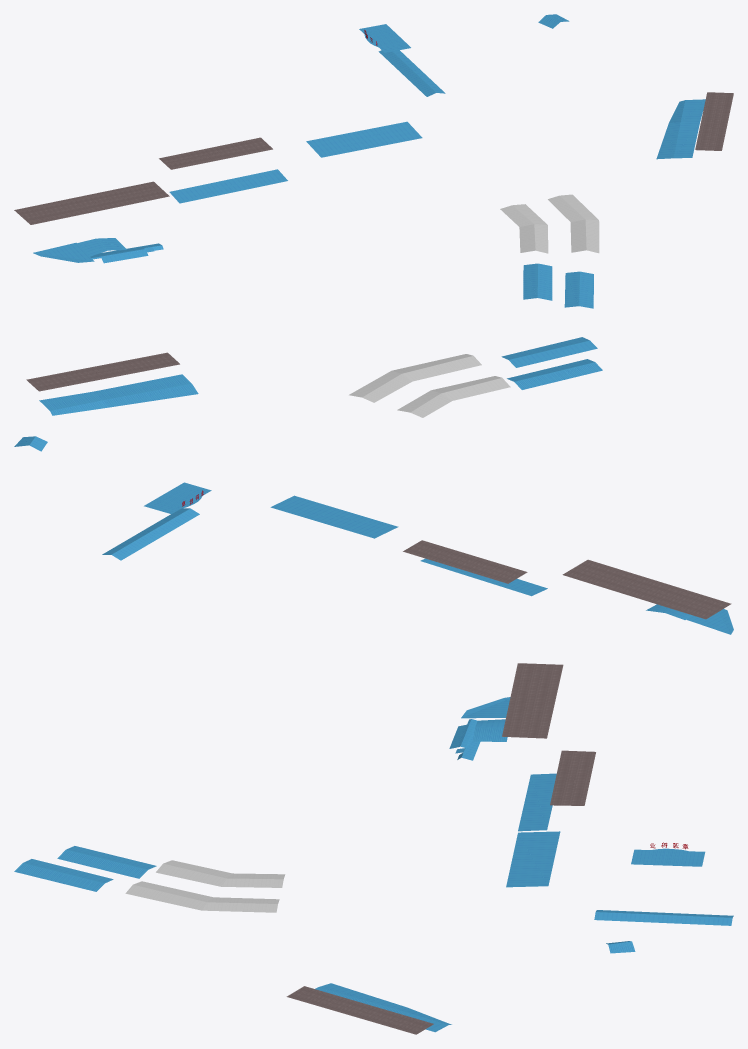
The model's file is waichangjingwuding.glb.
3 views of the same model, one above another, from view 1: azimuth 30°, elevation 25°; view 2: azimuth 150°, elevation 25°; view 3: azimuth 270°, elevation 25° (orthographic). The views are drawn at different scales.
Visible parts, largest first — view 1: Box002; view 2: Box002; view 3: Box002.
Boxes of the visible parts, left/top/right/bottom form: Box002: left=14, top=14, right=733, bottom=308; Box002: left=14, top=337, right=733, bottom=634; Box002: left=14, top=663, right=733, bottom=1034.
Bounding box in the file's own units: 120 × 12.9 × 97.
Materials: 4 (3 with a texture image).
